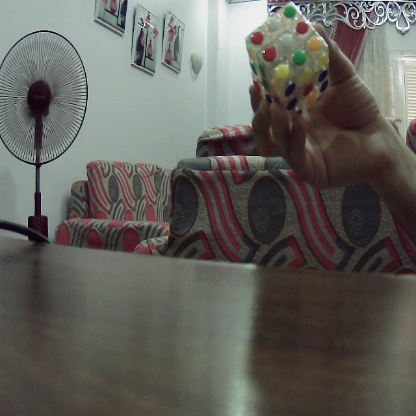Rubix Cube: (253, 13, 330, 113)
